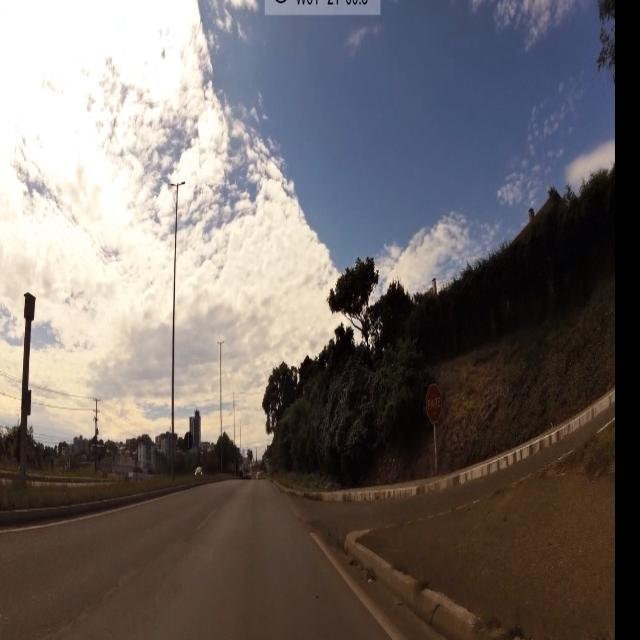R-1: (425, 382, 444, 430)
